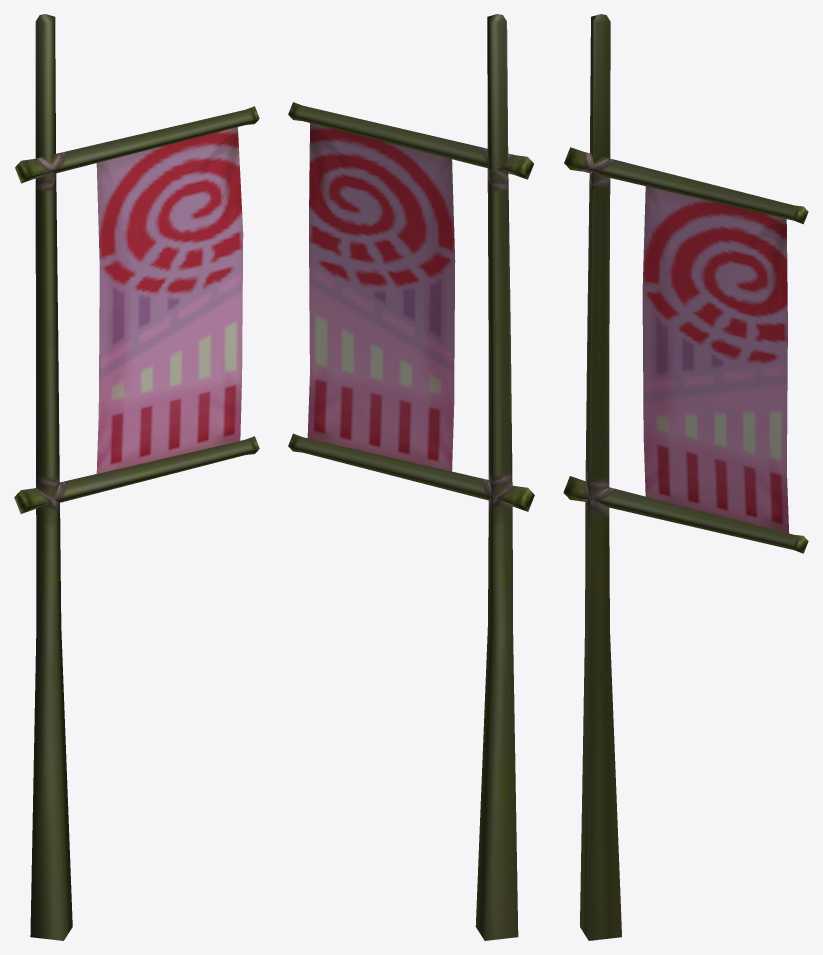
The picture shows the model from 3 angles, left to right: view 1: azimuth 30°, elevation 25°; view 2: azimuth 150°, elevation 25°; view 3: azimuth 330°, elevation 25°; orthographic projection.
Visible parts, largest first — view 1: wq_wj006_03; view 2: wq_wj006_03; view 3: wq_wj006_03.
Boxes of the visible parts, left/top/right/bottom form: wq_wj006_03: left=14, top=14, right=259, bottom=940; wq_wj006_03: left=288, top=14, right=534, bottom=940; wq_wj006_03: left=563, top=14, right=808, bottom=940.
Size of the model in its own units: 108 by 403 by 19.48.
Materials: 1 (1 with a texture image).
